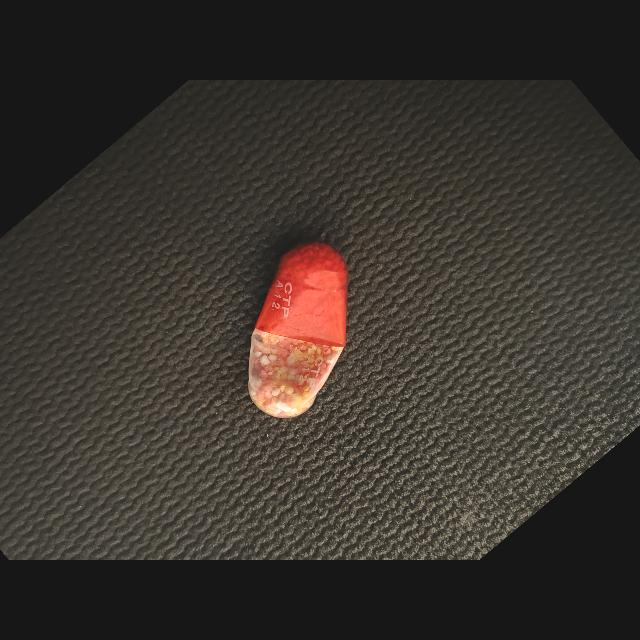Defective Capsule: (248, 242, 348, 418)
